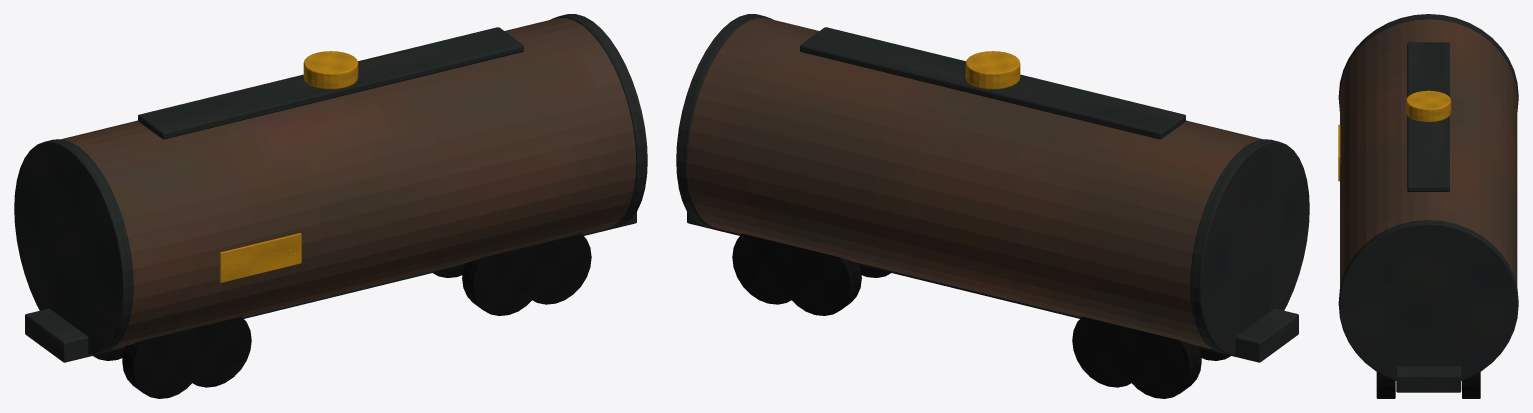
File: tanker-car-v1.glb
3 renders of one model, left to right at view 1: azimuth 30°, elevation 25°; view 2: azimuth 150°, elevation 25°; view 3: azimuth 270°, elevation 25°, orthographic. The views are drawn at different scales.
Visible parts, largest first — view 1: tanker_tank, tanker_end_cap_left, tanker_walkway, tanker_wheel_2_front, tanker_wheel_1_front, tanker_wheel_0_front, tanker_frame, tanker_wheel_3_front, tanker_end_cap_right, tanker_warning, tanker_hatch; view 2: tanker_tank, tanker_end_cap_left, tanker_walkway, tanker_wheel_2_rear, tanker_wheel_0_rear, tanker_wheel_1_rear, tanker_wheel_3_rear, tanker_frame, tanker_end_cap_right, tanker_hatch; view 3: tanker_tank, tanker_end_cap_right, tanker_walkway, tanker_frame, tanker_hatch, tanker_end_cap_left, tanker_wheel_3_front, tanker_wheel_3_rear.
Part boxes in pixels (x1,y1,x2,y2): tanker_tank: (61, 18, 636, 348); tanker_end_cap_left: (14, 139, 133, 354); tanker_walkway: (138, 27, 523, 139); tanker_wheel_2_front: (462, 245, 544, 315); tanker_wheel_1_front: (181, 316, 251, 387); tanker_wheel_0_front: (122, 329, 204, 398); tanker_frame: (25, 212, 636, 362); tanker_wheel_3_front: (523, 233, 591, 304); tanker_end_cap_right: (551, 14, 647, 229); tanker_warning: (219, 233, 301, 282); tanker_hatch: (303, 51, 358, 89); tanker_tank: (687, 18, 1262, 348); tanker_end_cap_left: (1190, 139, 1309, 354); tanker_walkway: (800, 27, 1185, 139); tanker_wheel_2_rear: (779, 245, 861, 315); tanker_wheel_0_rear: (1119, 329, 1201, 398); tanker_wheel_1_rear: (1072, 316, 1142, 387); tanker_wheel_3_rear: (732, 233, 802, 304); tanker_frame: (687, 212, 1298, 362); tanker_end_cap_right: (676, 14, 772, 229); tanker_hatch: (965, 51, 1020, 89); tanker_tank: (1340, 19, 1517, 287); tanker_end_cap_right: (1338, 220, 1518, 380); tanker_walkway: (1407, 42, 1449, 191); tanker_frame: (1396, 366, 1461, 392); tanker_hatch: (1406, 90, 1451, 122); tanker_end_cap_left: (1338, 14, 1518, 111); tanker_wheel_3_front: (1376, 372, 1395, 398); tanker_wheel_3_rear: (1462, 372, 1480, 398).
Size of the model in its own units: 9.2 by 4.08 by 3.05.
Materials: 4 (4 with a texture image).
